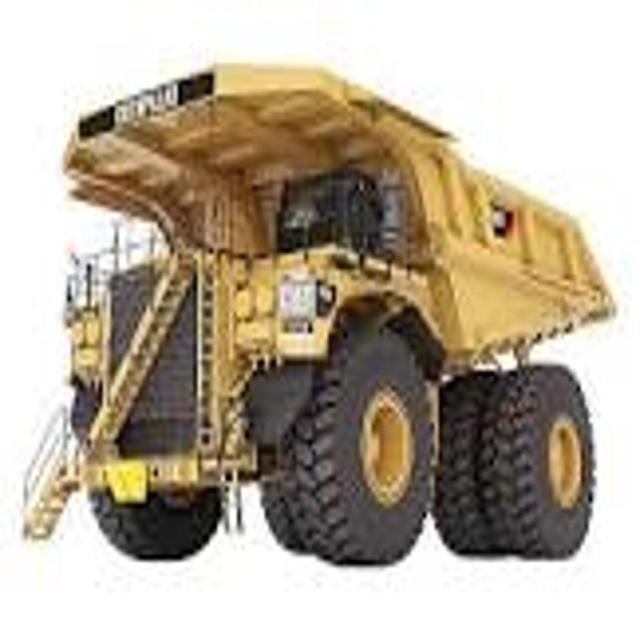dump_truck: (20, 45, 619, 565)
